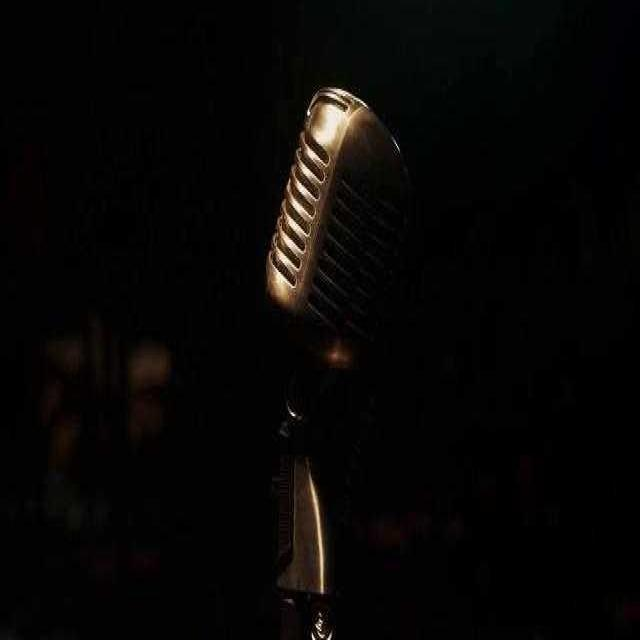microphone: (266, 88, 412, 376)
